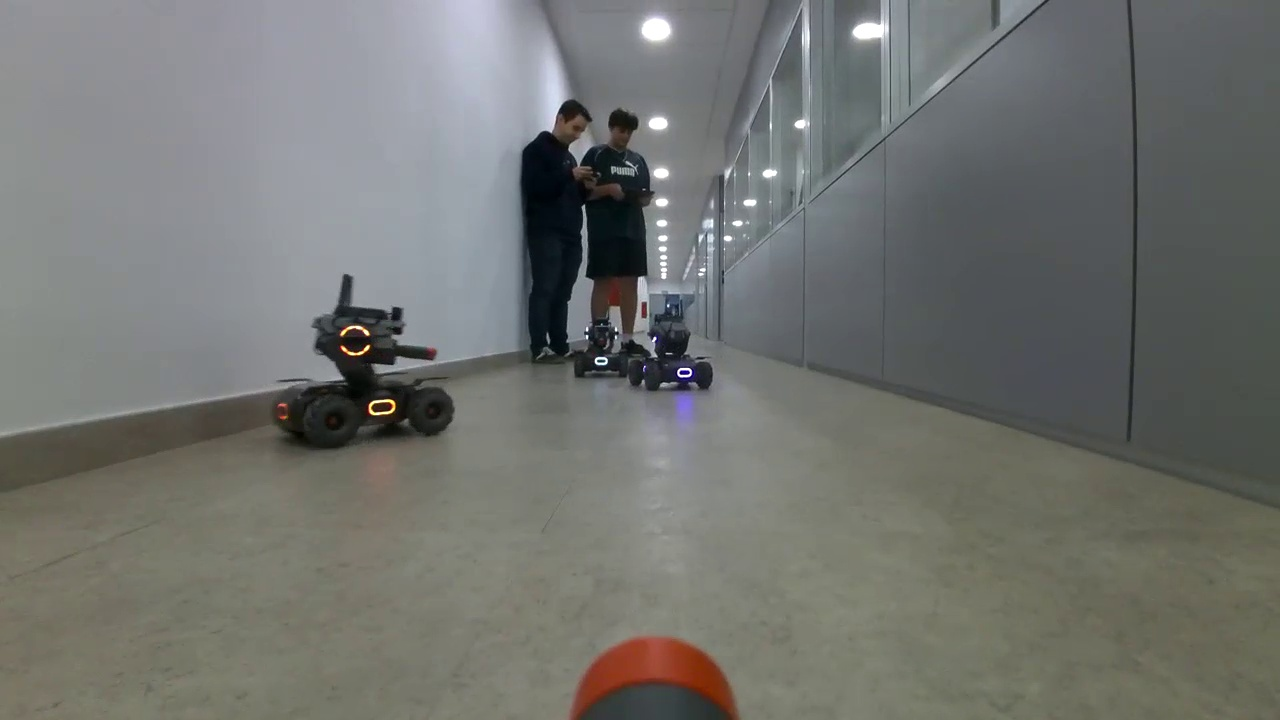robot: (273, 304, 455, 448), (630, 313, 714, 391), (572, 317, 629, 378)
